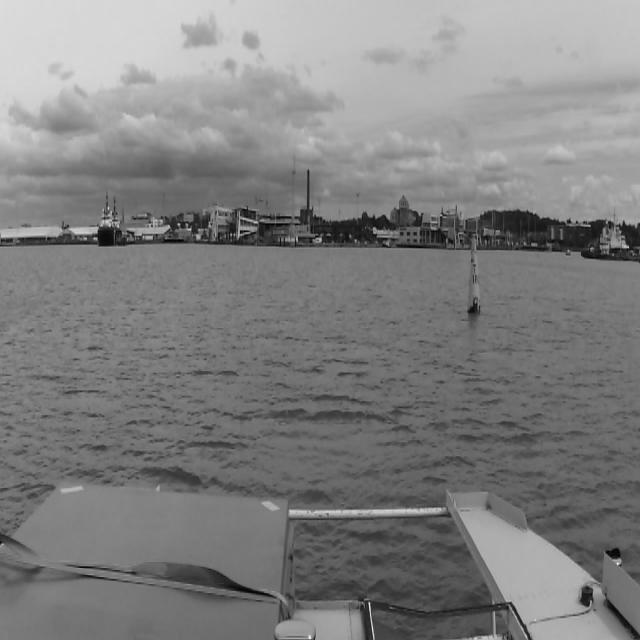buoy: (468, 232, 481, 315)
ship: (580, 212, 634, 262), (98, 194, 114, 250), (566, 250, 570, 256)
